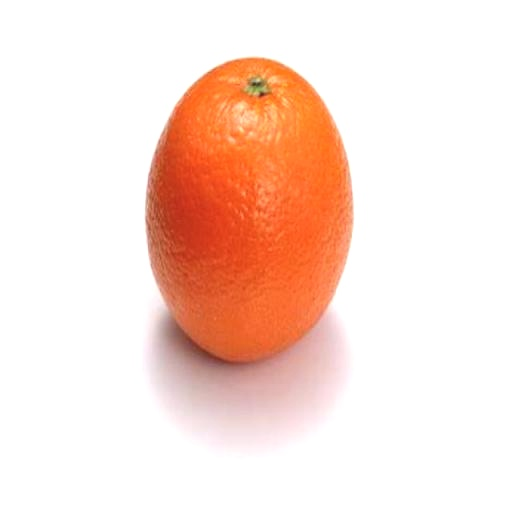fruit: (146, 59, 351, 361)
